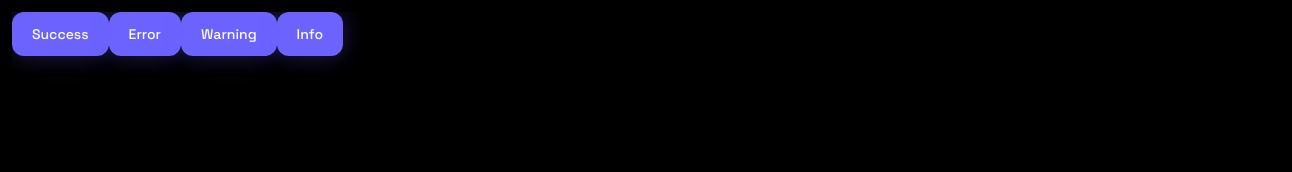
Toast System › displays success toast with title
Click the button "Success" at (60, 34), box [12,12,109,56]
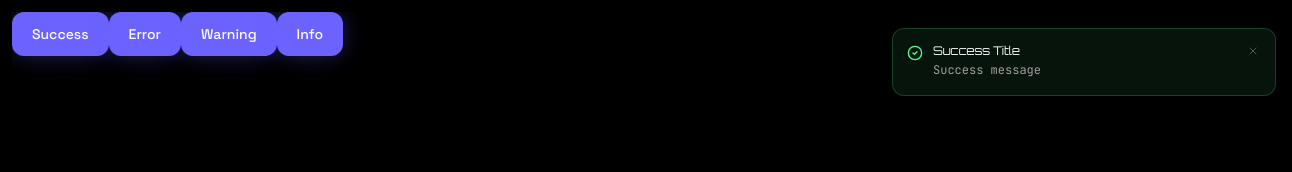
Now the text "Success Title" is shown, box [933,43,1020,58]
Now the text "Success message" is shown, box [933,62,1041,78]
